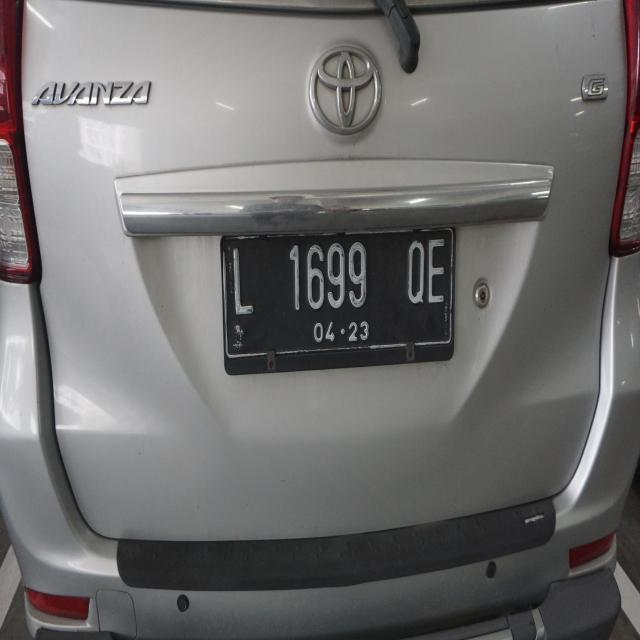1: (282, 244, 308, 326)
6: (302, 244, 326, 314)
9: (344, 239, 370, 315), (324, 239, 346, 309)
E: (424, 232, 450, 316)
L: (228, 246, 260, 322)
Q: (402, 238, 428, 313)
